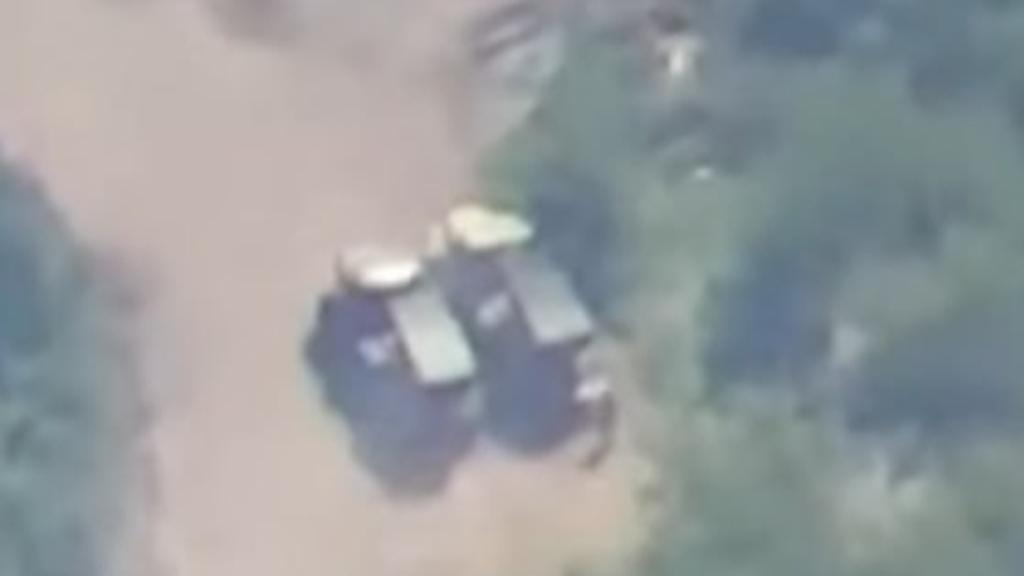MLRS: (426, 192, 610, 435), (324, 235, 478, 427)
